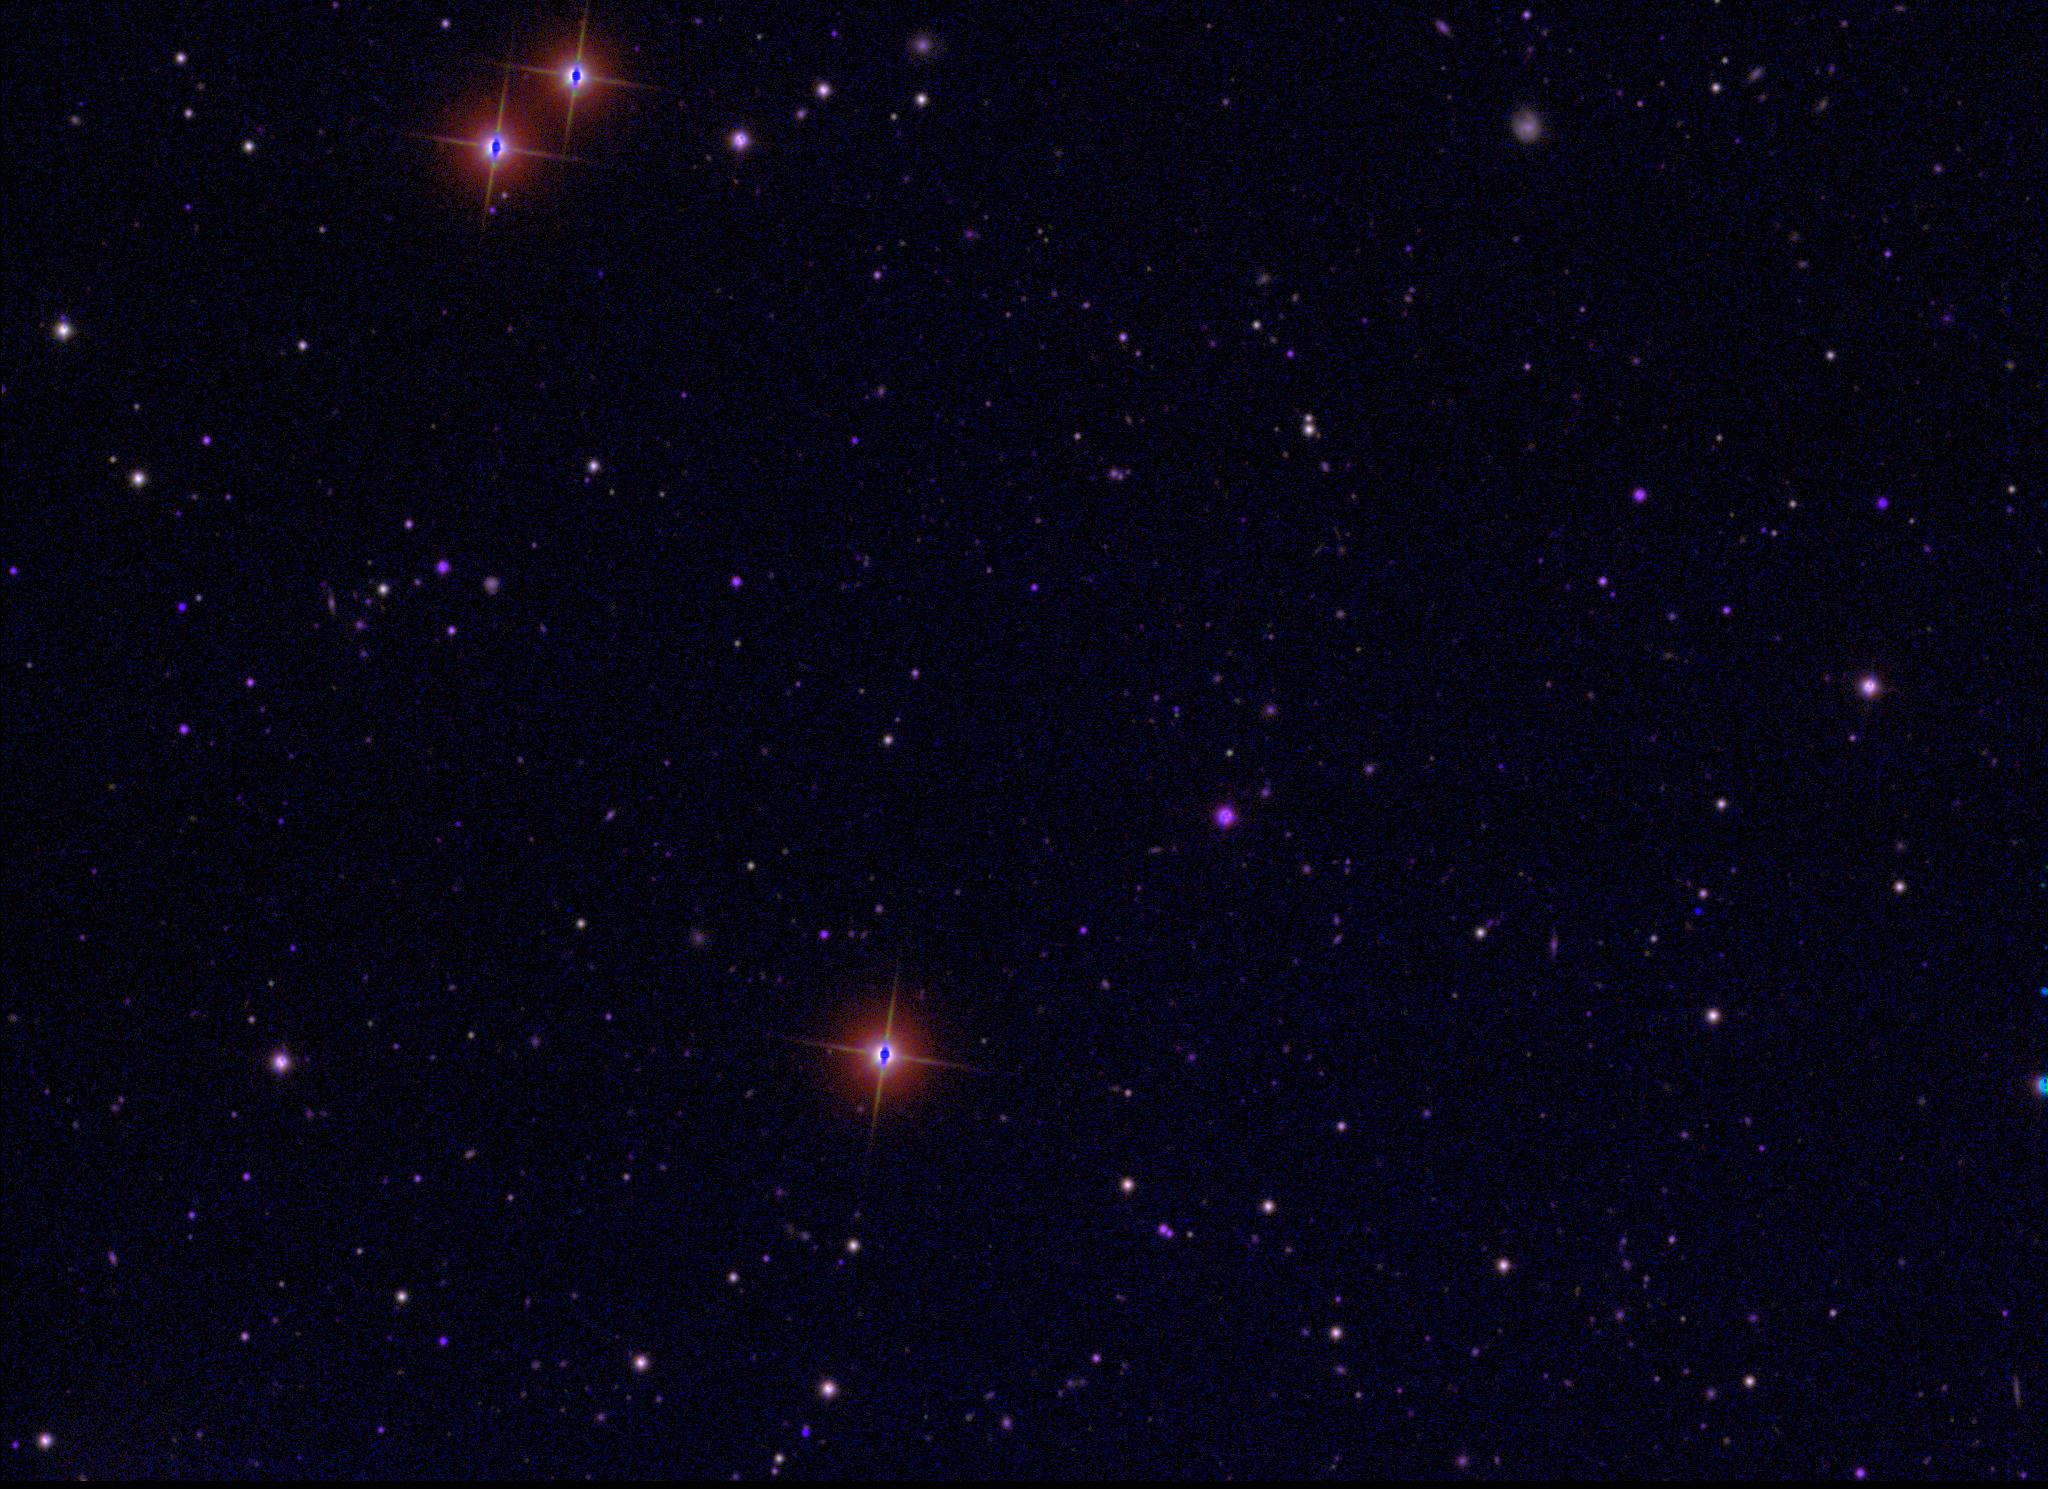L: (1690, 905, 1705, 919)
